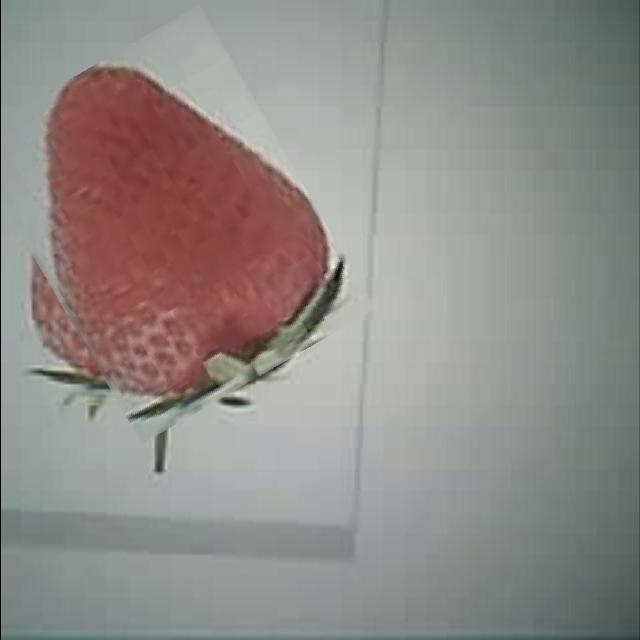strawberry: (0, 27, 339, 422)
